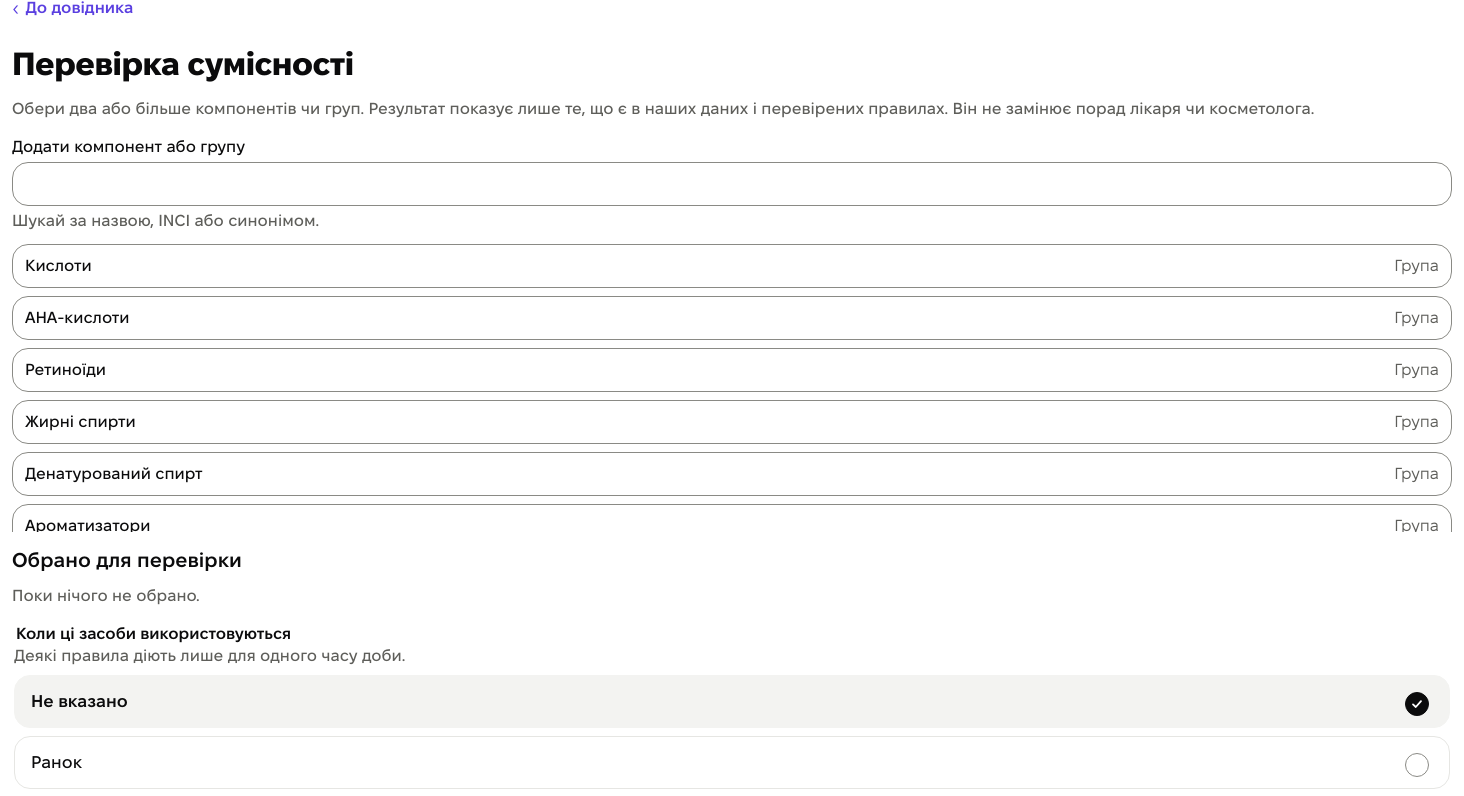
CompatCheckerPage: results › shows a caution with the explanation, the timing advice, the source and the review status
The width and height of the screenshot is (1464, 796).
Clear the search field labelled "Додати компонент або групу" at (732, 184), box [12,162,1452,206]
(page scrolled)
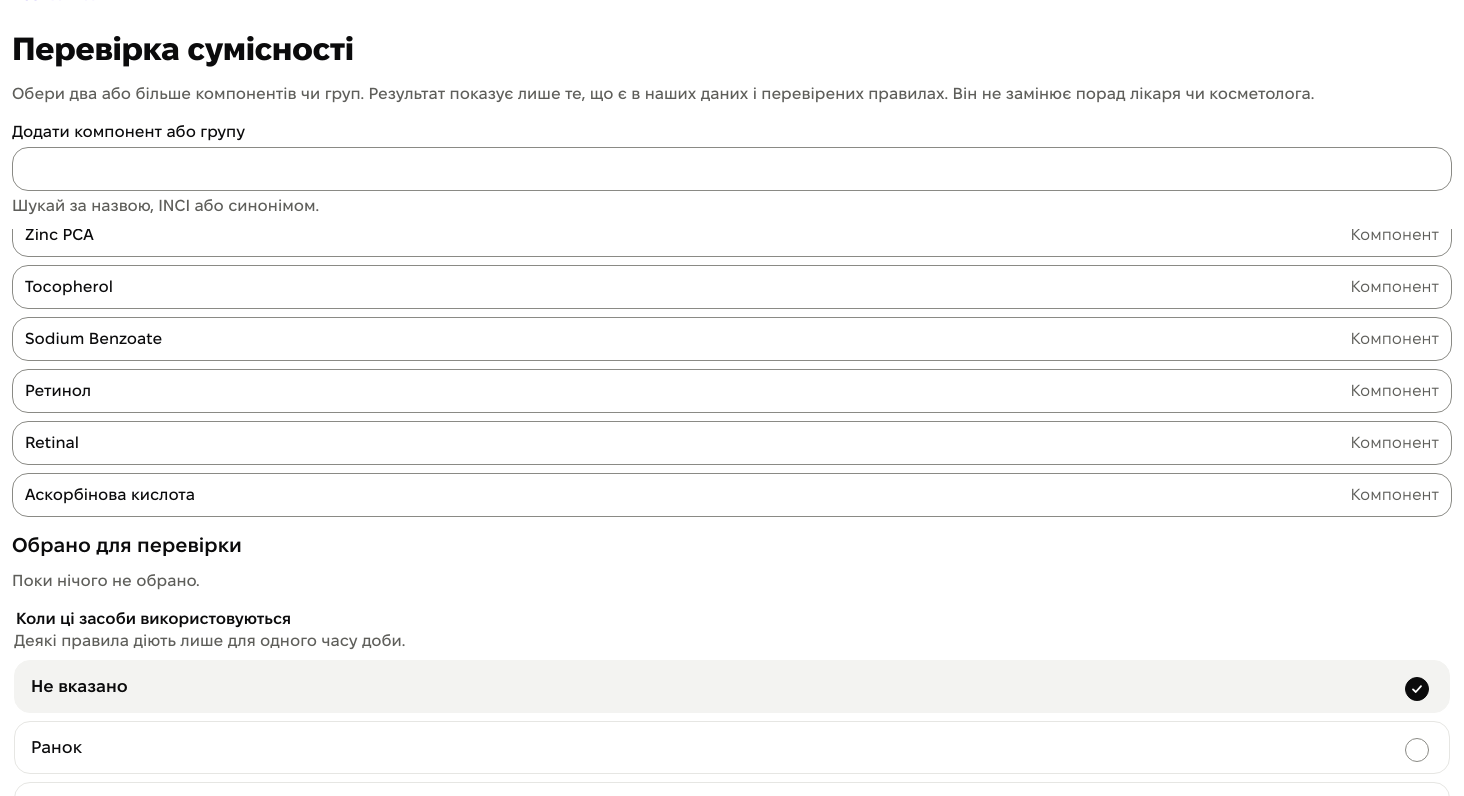
Click the button "Ретинол Компонент" at (58, 390), box [12,369,1452,413]
(page scrolled)
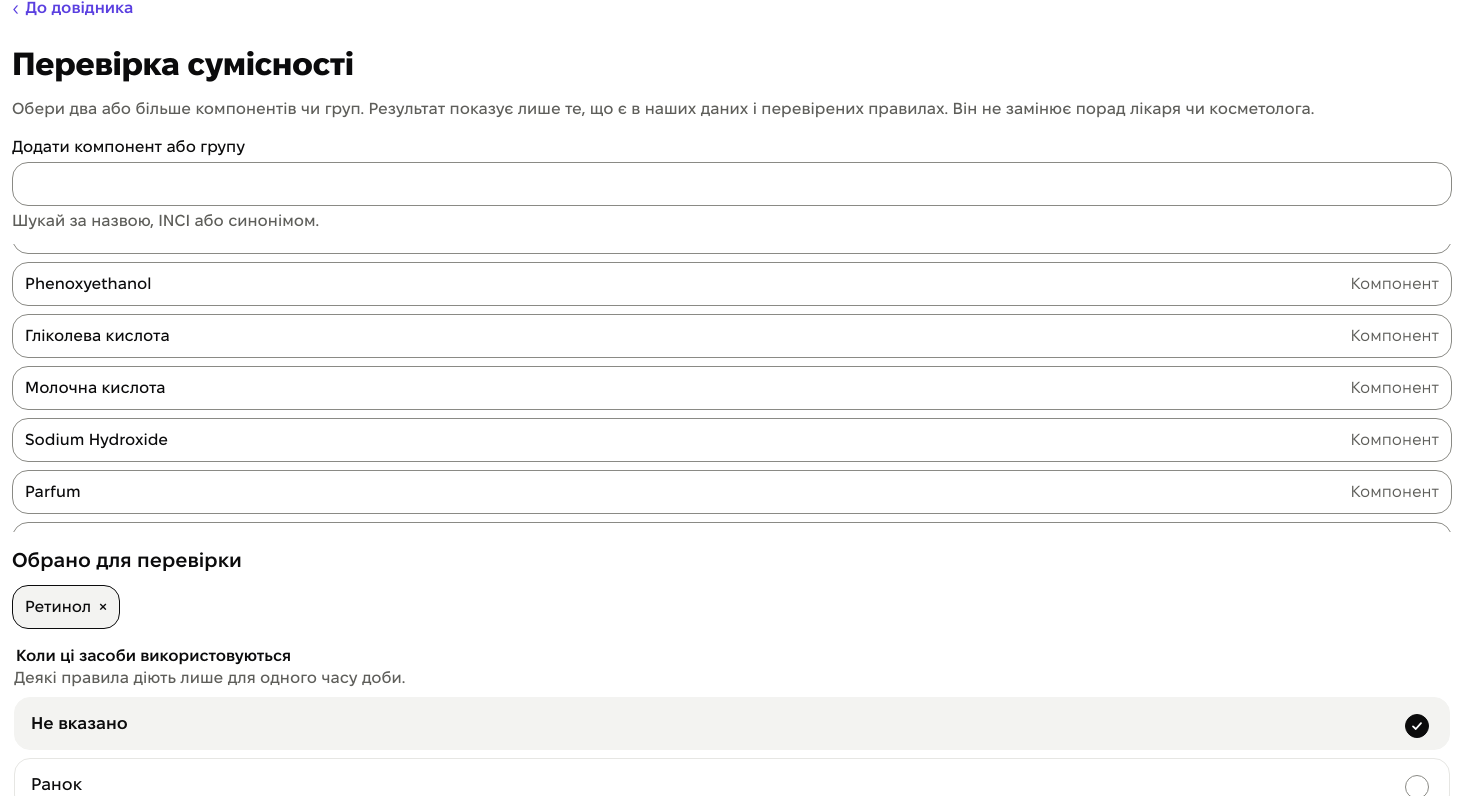
Click the button "Молочна кислота Компонент" at (95, 388), box [12,366,1452,410]
(page scrolled)
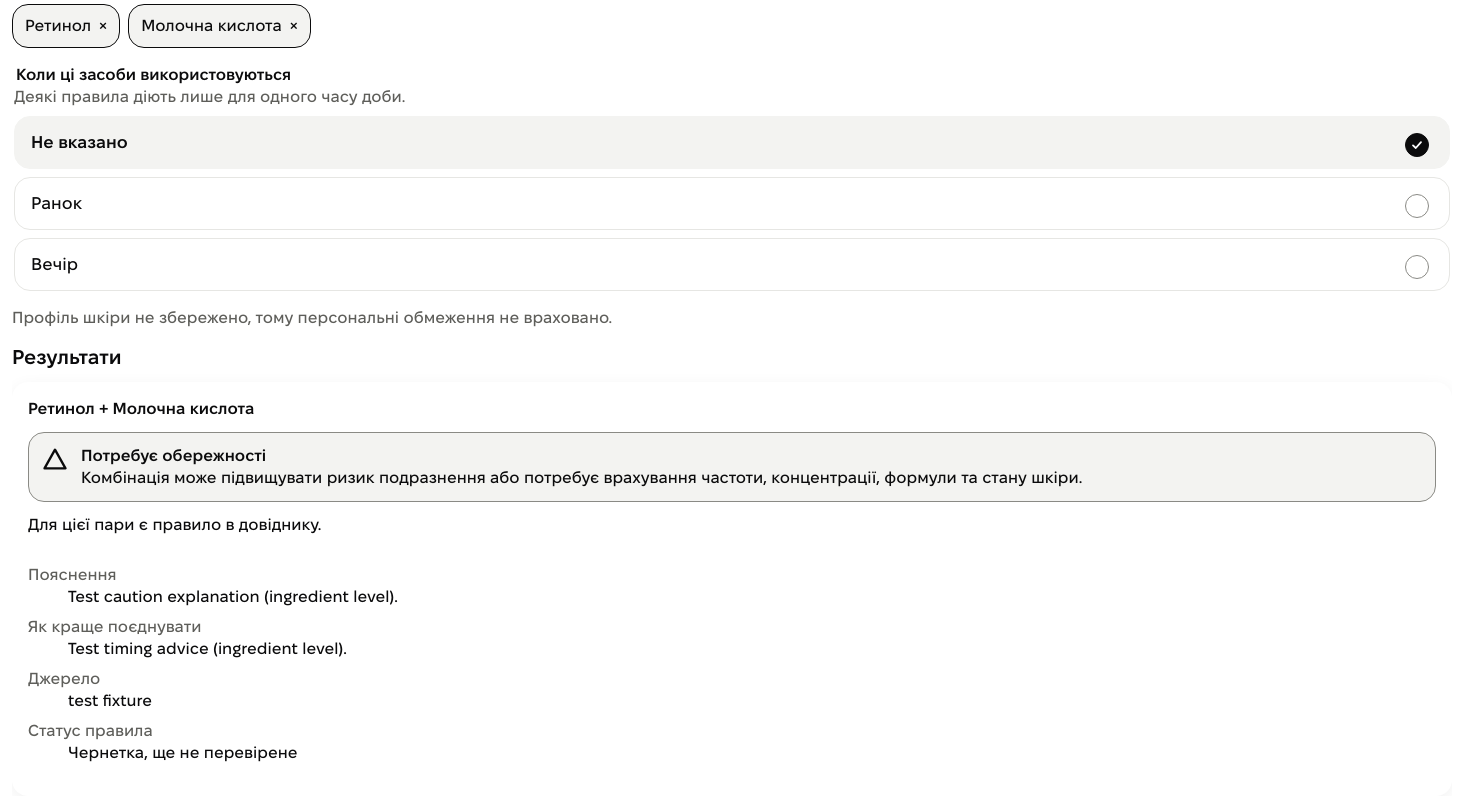
Expected: the element named "Ретинол + Молочна кислота" is shown, [12,382,1452,795]
Expected: the heading "Ретинол + Молочна кислота" is shown, [28,400,254,417]
Expected: the text "Потребує обережності" is shown, [81,447,266,464]
